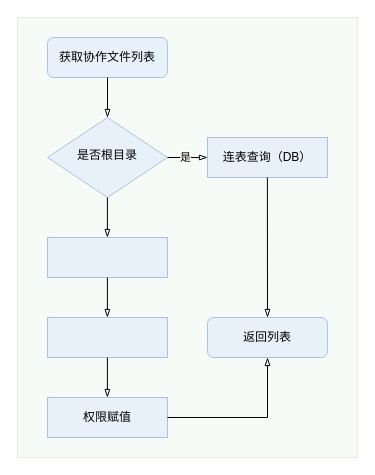
Some shapes in this 375 by 475 pixel diagram are drawn without their labels. Here are the shapes that lost their labels. From the top down, the box of each, then its label:
(46, 236, 168, 278): 查询文件列表（ES）
(46, 316, 168, 358): 查询协作权限
